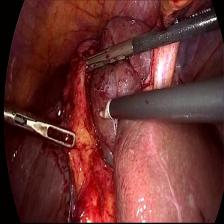Grasper: (6, 103, 79, 155), (76, 37, 134, 83)
Hook: (95, 97, 113, 124)
